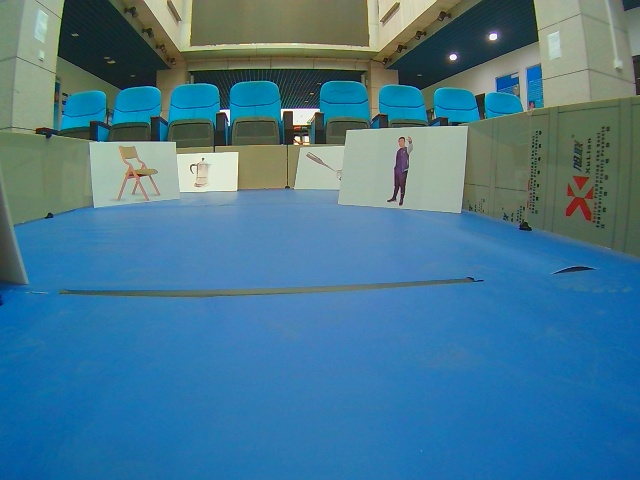dish: (178, 153, 239, 194), (294, 147, 342, 189)
person: (337, 127, 469, 216)
table: (89, 142, 181, 208)
